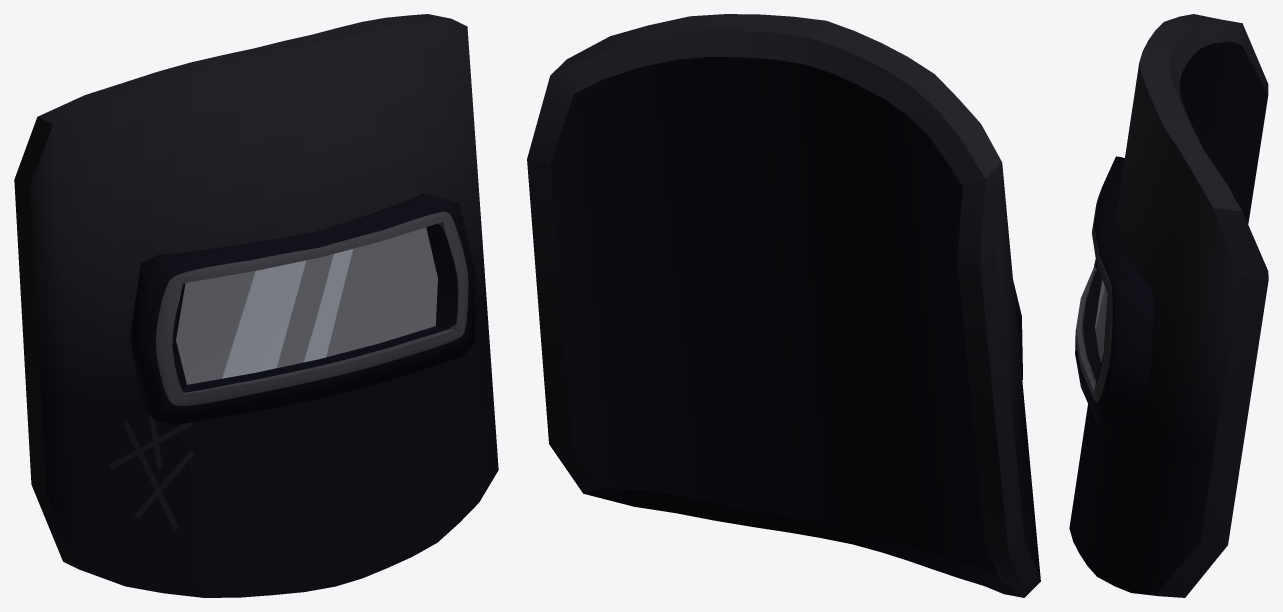
File: SM_mascara_soldador.fbx
3 renders of one model, left to right at view 1: azimuth 30°, elevation 25°; view 2: azimuth 150°, elevation 25°; view 3: azimuth 270°, elevation 25°, orthographic. The views are drawn at different scales.
Visible parts, largest first — view 1: Cube; view 2: Cube; view 3: Cube.
Boxes of the visible parts, box(x1,y1,x2,y2) form: Cube: box(14, 14, 498, 597); Cube: box(527, 14, 1040, 597); Cube: box(1069, 14, 1268, 597).
Size of the model in its own units: 0.8745 by 0.9807 by 0.3756.
